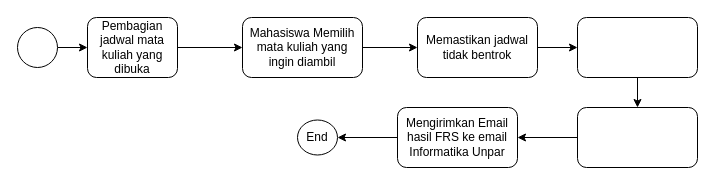
The diagram is 715 pixels wide and 185 high, and some of its shapes have lost their labels. Here are the shapes that lost their labels. From the top down, the centre of each, then its label:
the point at 37,47: start
the point at 637,47: Konsultasikan mata kuliah yang akan diambil ke dosen wali
the point at 637,137: Input mata kuliah yang ingin diambil pada student portal
